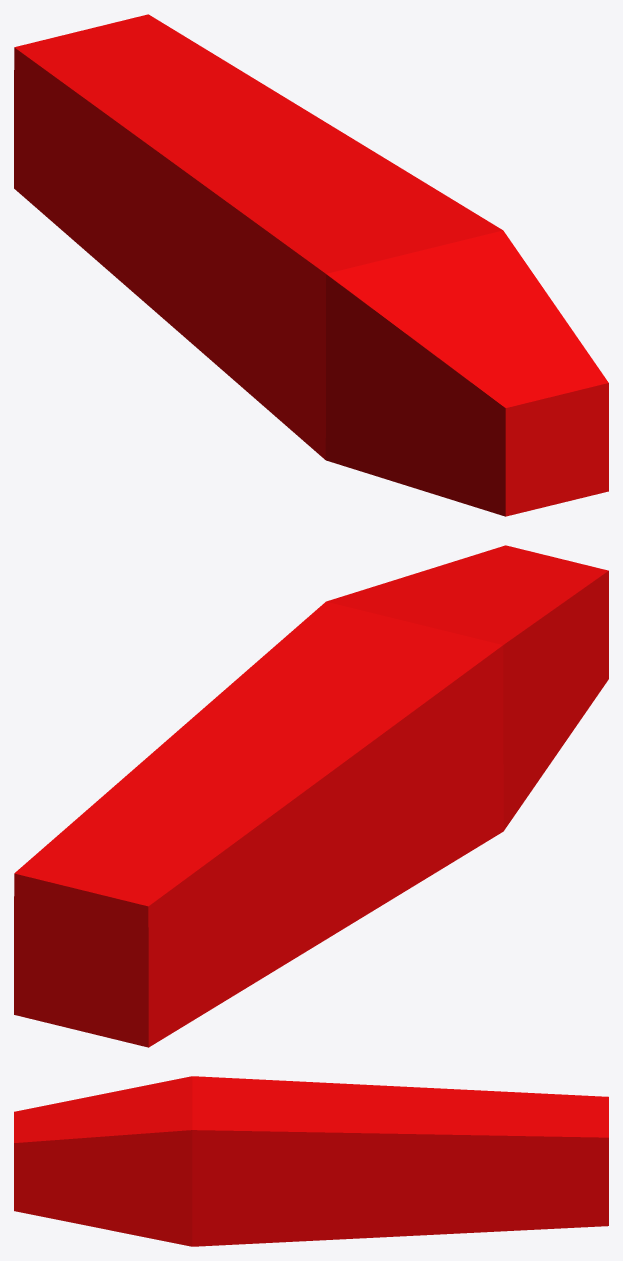
Rendered from bullet.FBX.
3 views of the same model, one above another, from view 1: azimuth 30°, elevation 25°; view 2: azimuth 150°, elevation 25°; view 3: azimuth 270°, elevation 25° (orthographic). The views are drawn at different scales.
Visible parts, largest first — view 1: Box002; view 2: Box002; view 3: Box002.
Boxes of the visible parts, x1,y1,x2,y2 form: Box002: (14, 14, 608, 516); Box002: (14, 545, 608, 1047); Box002: (14, 1076, 608, 1246).
Bounding box in the file's own units: 0.1818 × 0.1824 × 0.8428.
